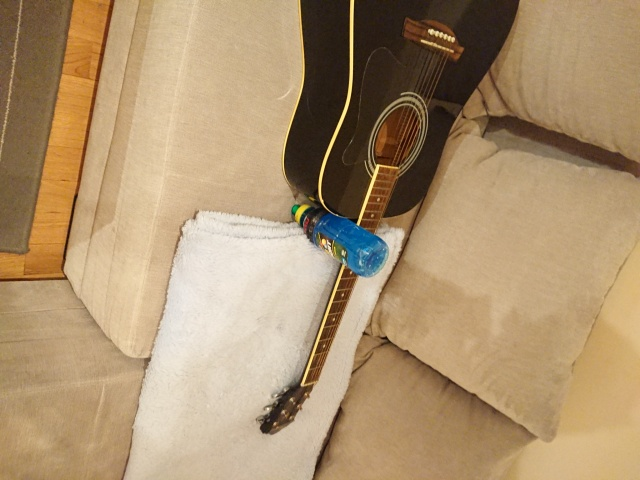Vindi Iso Sport Forest Strawberries 500mL: (290, 202, 389, 278)
